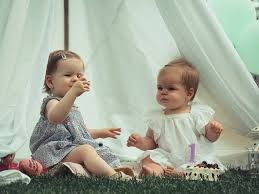baby: (30, 50, 130, 179), (127, 60, 223, 175)
